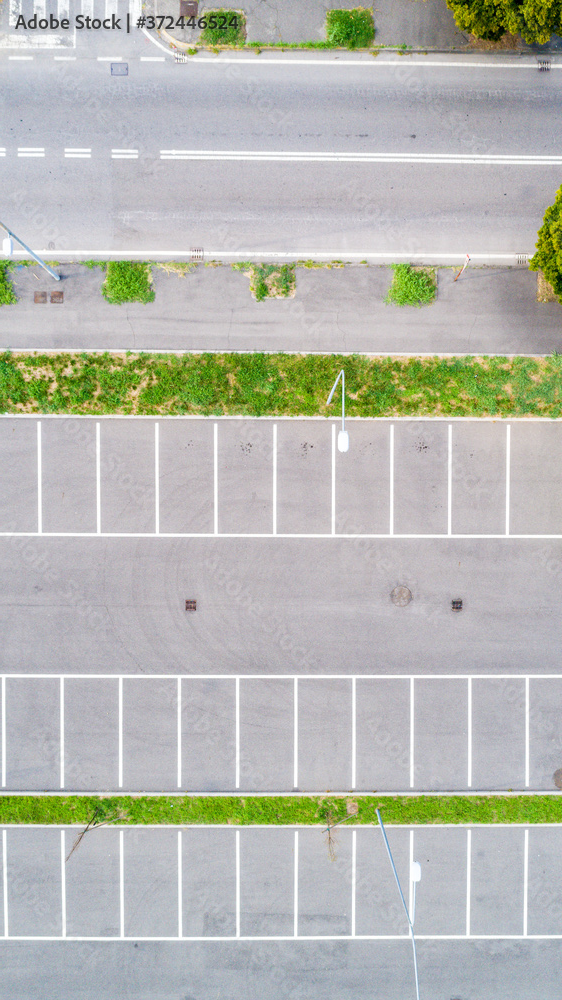dolu: (464, 827, 533, 940), (175, 675, 242, 791), (60, 675, 123, 796), (350, 676, 414, 795), (447, 422, 512, 539), (1, 828, 68, 941), (237, 676, 300, 796), (293, 676, 357, 794), (409, 675, 473, 793), (272, 422, 337, 538), (467, 677, 531, 793), (119, 828, 184, 942), (60, 830, 126, 942), (39, 420, 102, 537), (390, 423, 454, 538), (96, 422, 159, 538), (156, 421, 219, 537), (408, 826, 471, 942), (333, 421, 395, 538), (215, 420, 277, 536), (4, 675, 65, 792), (350, 828, 414, 939), (176, 831, 240, 942), (235, 831, 298, 942), (121, 675, 181, 791), (295, 828, 357, 940), (505, 422, 562, 539), (1, 418, 43, 535), (524, 675, 562, 792), (523, 828, 562, 942)
